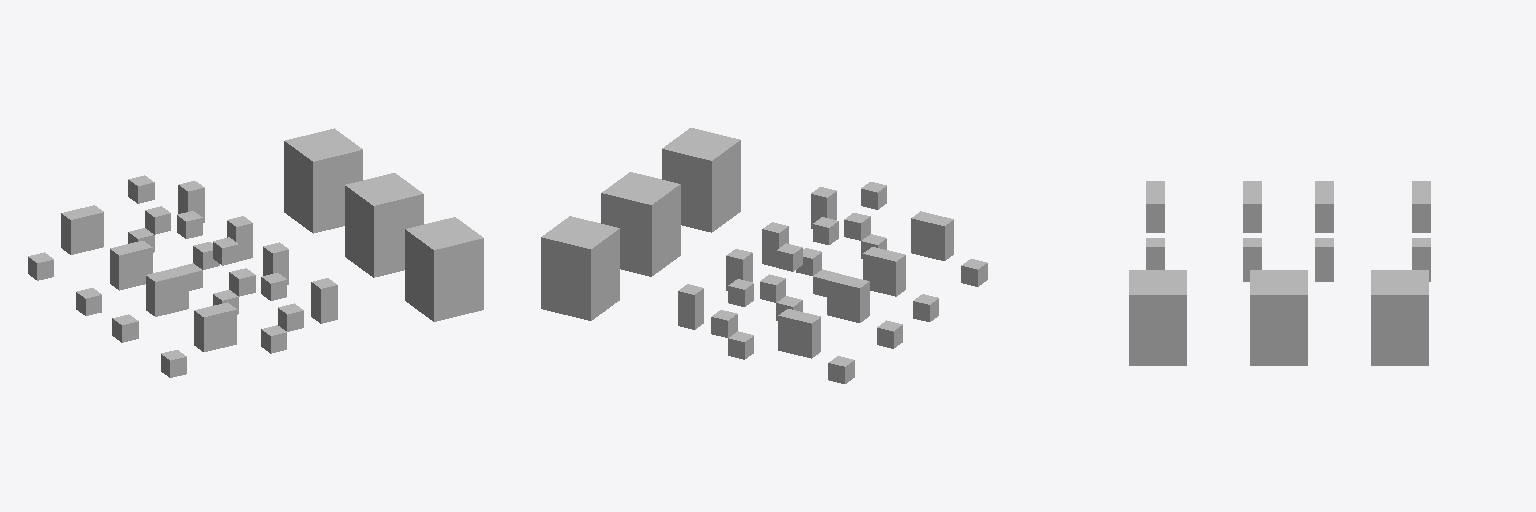
The model's file is arroz 5.obj.
The picture shows the model from 3 angles: view 1: azimuth 30°, elevation 25°; view 2: azimuth 150°, elevation 25°; view 3: azimuth 270°, elevation 25°; orthographic projection.
Size of the model in its own units: 1.46 by 0.328 by 1.25.